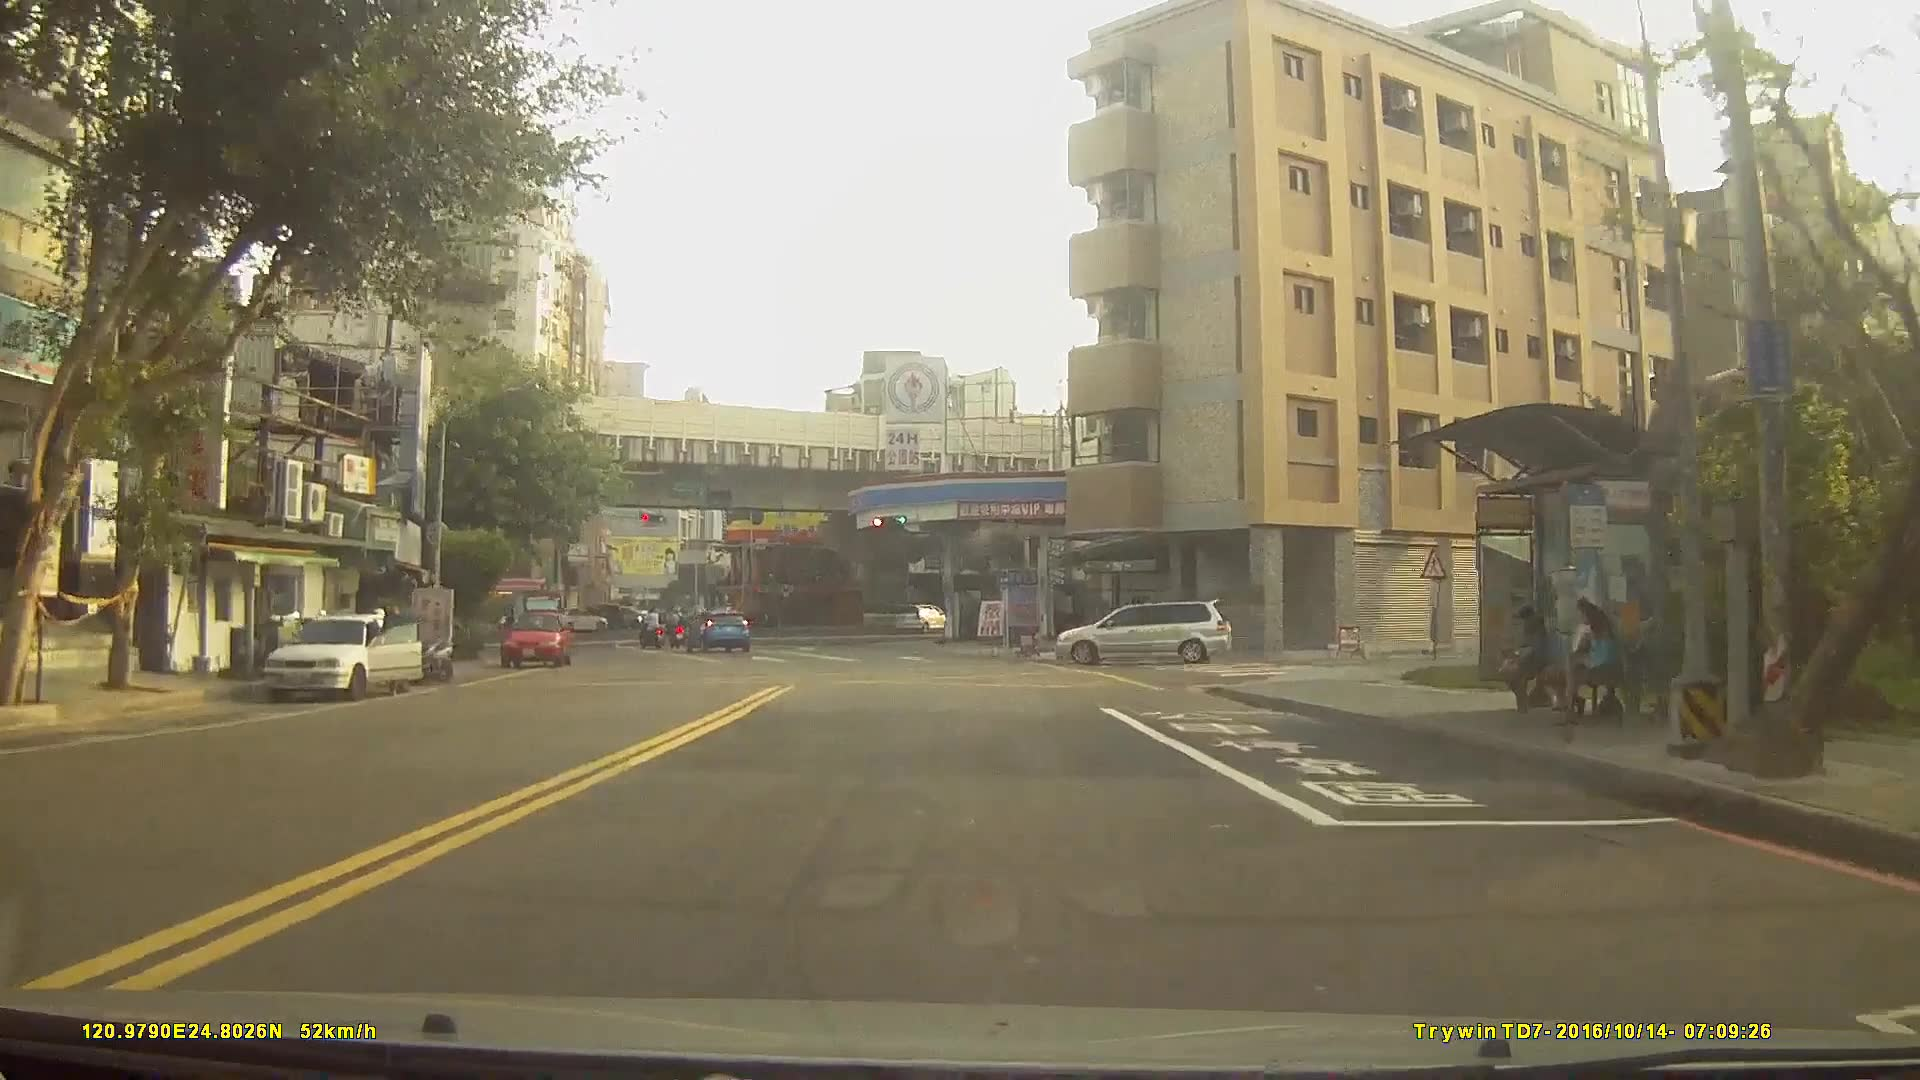pedestrian: (1501, 607, 1558, 711), (1572, 596, 1614, 722)
rider: (637, 606, 667, 651)
vehicle: (256, 610, 424, 702), (1049, 600, 1233, 665), (496, 606, 568, 665), (679, 610, 752, 655), (890, 599, 949, 630), (569, 600, 626, 630), (543, 604, 607, 631)
